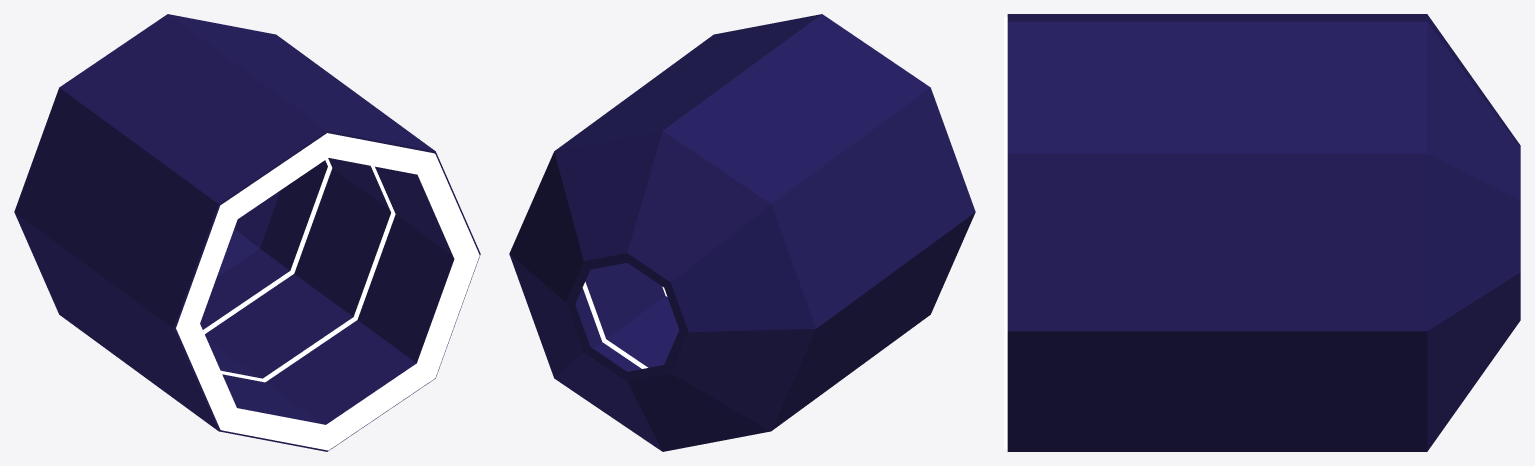
Rendered from expandedsectionendpiece.glb.
3 views of the same model, side by side, from view 1: azimuth 30°, elevation 25°; view 2: azimuth 150°, elevation 25°; view 3: azimuth 270°, elevation 25° (orthographic). The views are drawn at different scales.
Visible parts, largest first — view 1: Cylinder.002; view 2: Cylinder.002; view 3: Cylinder.002.
Boxes of the visible parts, bbox=[...] form: Cylinder.002: bbox=[14, 14, 480, 451]; Cylinder.002: bbox=[509, 14, 975, 451]; Cylinder.002: bbox=[1004, 14, 1520, 451].
Size of the model in its own units: 100 by 100 by 111.
